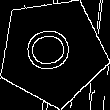O_E: (24, 27, 81, 77)
